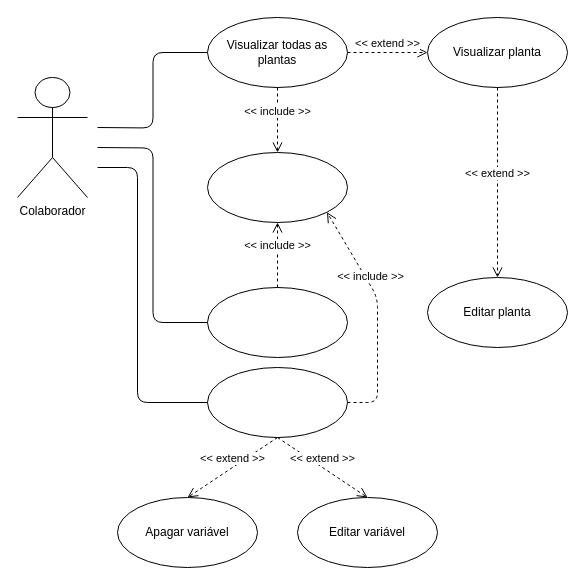
Some shapes in this 585 by 585 pixel diagram are drawn without their labels. Each missing label, with the centre of its shape:
Criar variáveis: the point at 277,322
Gerenciar variáveis: the point at 277,402
Verifica e seleciona plantas com permissão de acesso: the point at 277,187
